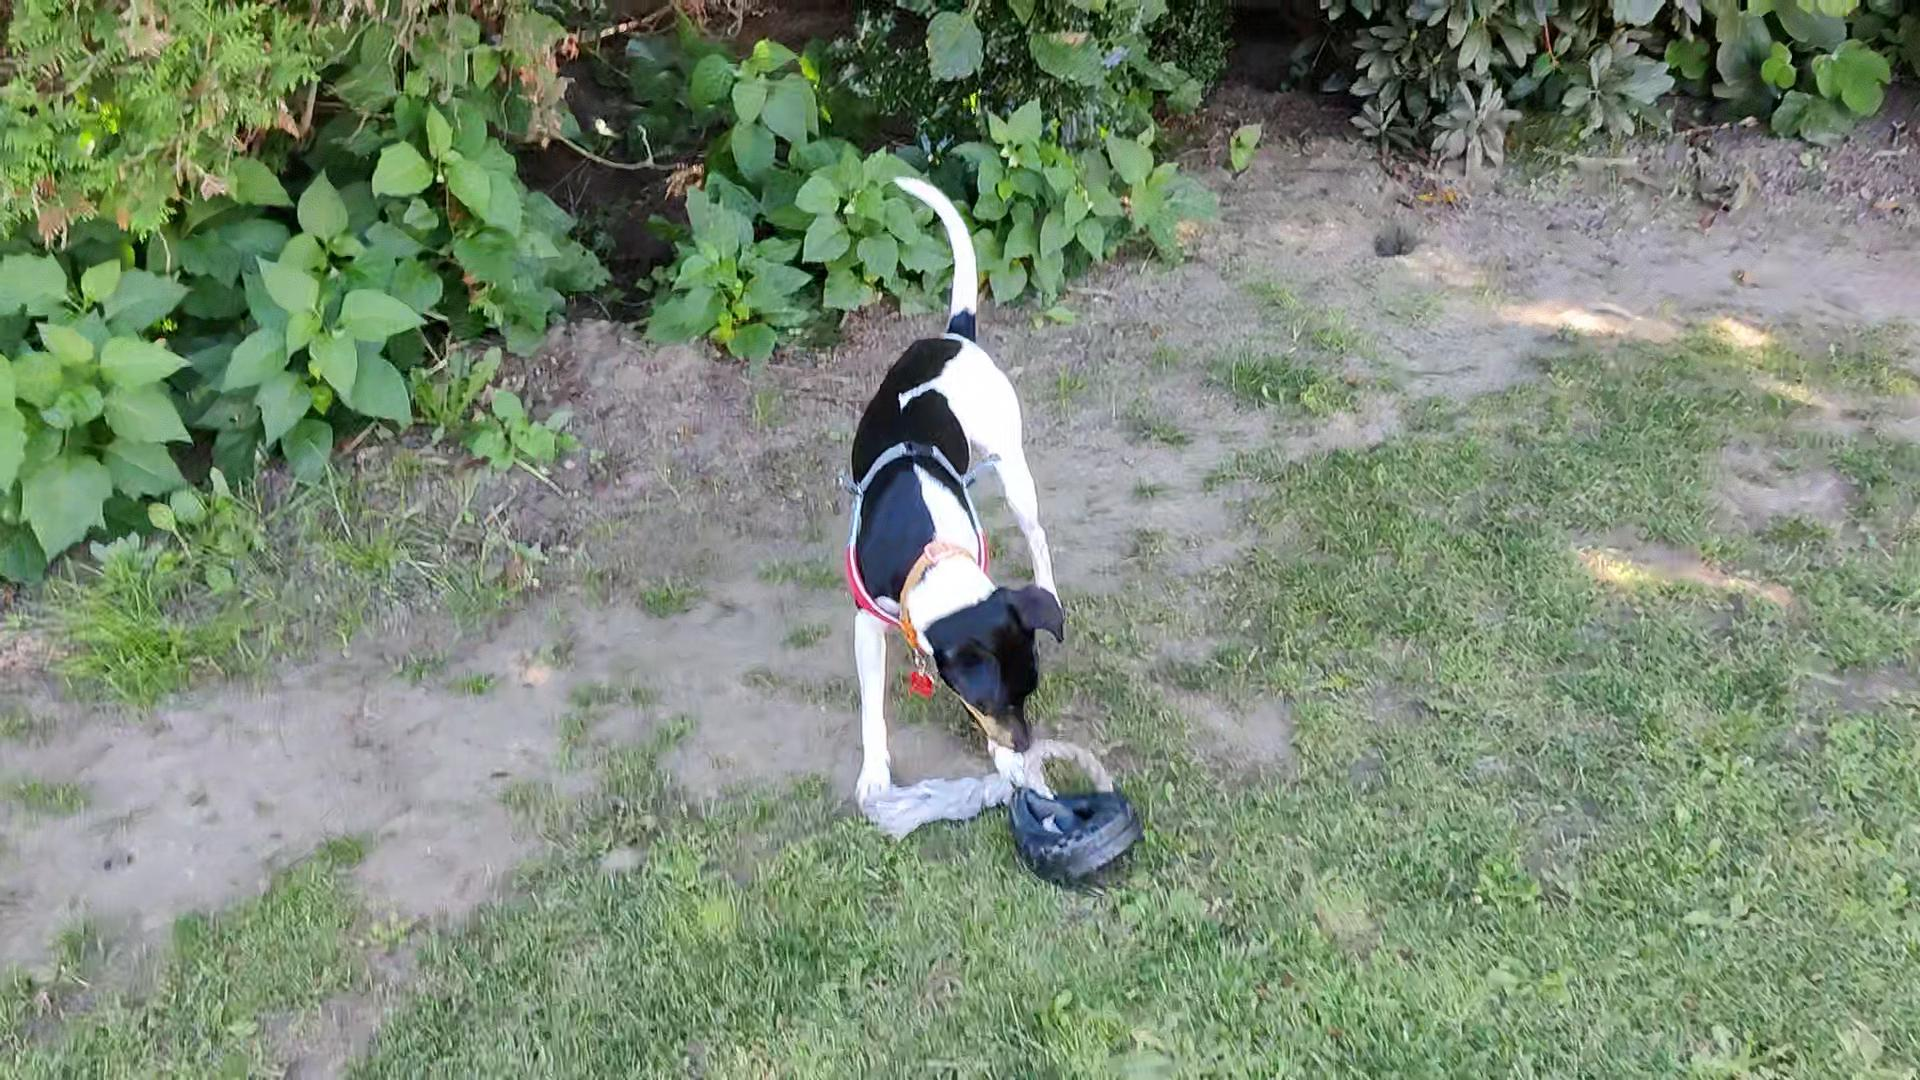Dog: (818, 166, 1089, 840)
